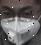with_mask: (1, 2, 41, 45)
